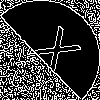X: (25, 25, 83, 81)
